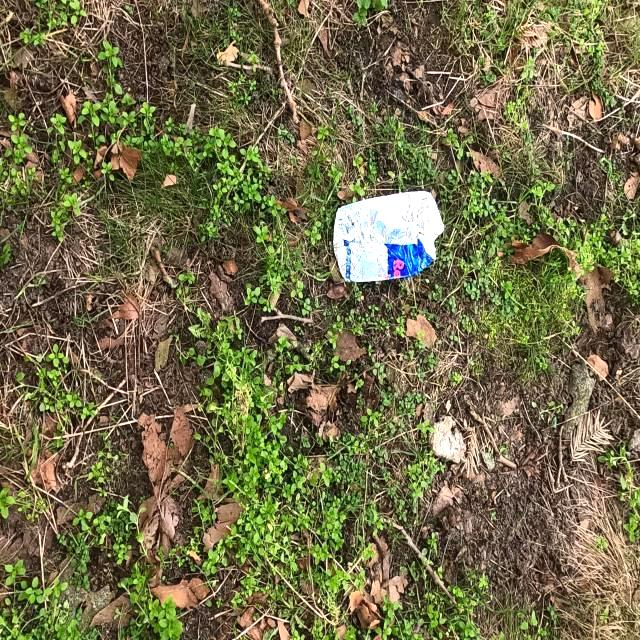Metal: (332, 190, 446, 284)
